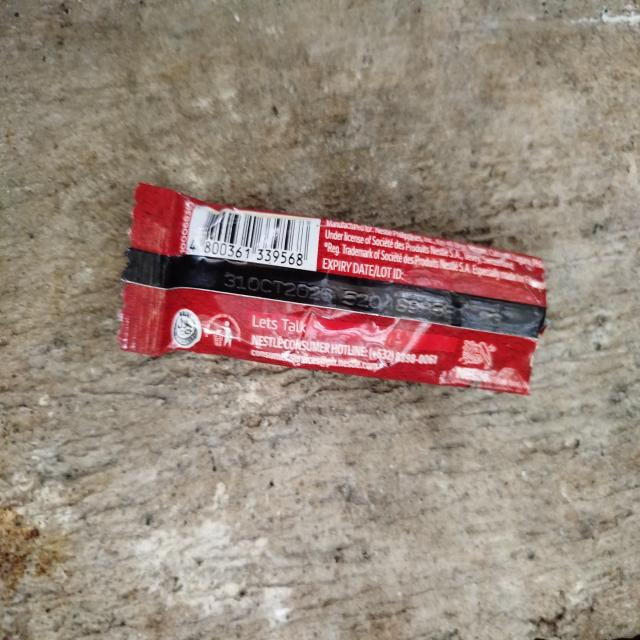residual: (113, 152, 570, 400)
